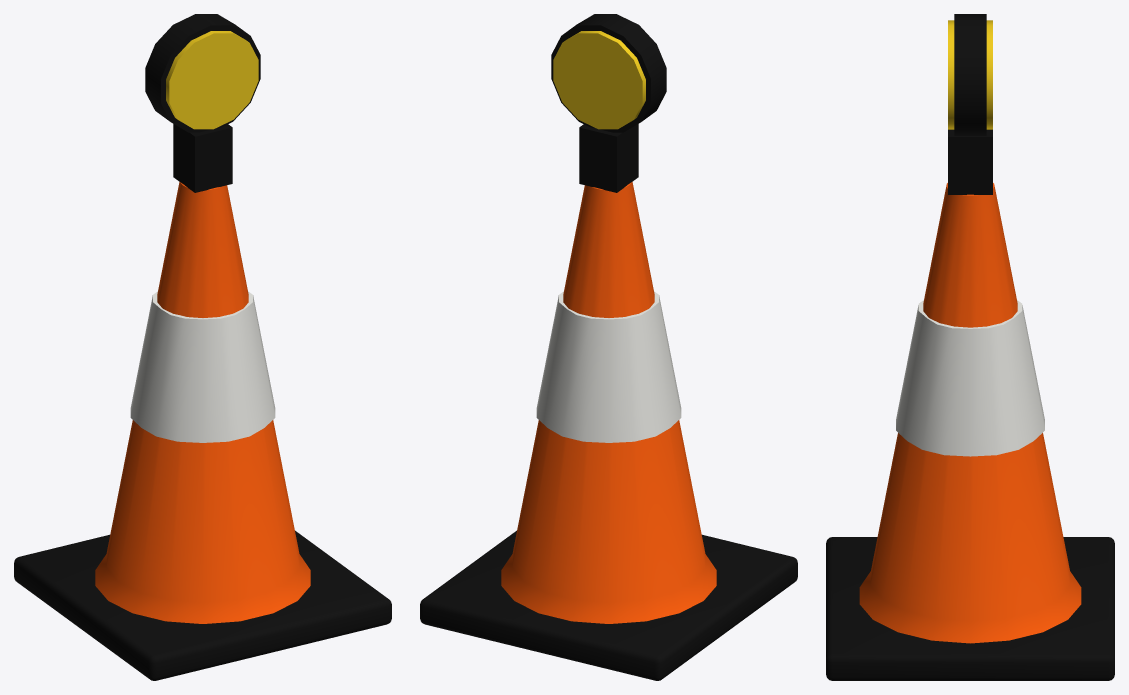
File: plant.traffic.cone_lamp.glb
3 views of the same model, side by side, from view 1: azimuth 30°, elevation 25°; view 2: azimuth 150°, elevation 25°; view 3: azimuth 270°, elevation 25° (orthographic). The views are drawn at different scales.
Parts seen in each view (by area): view 1: main__hivis_orange, main__plastic_black, main__paint_white, main__plastic_yellow; view 2: main__hivis_orange, main__plastic_black, main__paint_white, main__plastic_yellow; view 3: main__hivis_orange, main__plastic_black, main__paint_white, main__plastic_yellow.
Boxes of the visible parts, <box> form: main__hivis_orange: <box>95,182,310,623</box>; main__plastic_black: <box>14,14,391,680</box>; main__paint_white: <box>130,291,275,442</box>; main__plastic_yellow: <box>166,31,258,129</box>; main__hivis_orange: <box>501,182,716,623</box>; main__plastic_black: <box>420,14,797,680</box>; main__paint_white: <box>536,291,681,442</box>; main__plastic_yellow: <box>553,31,645,129</box>; main__hivis_orange: <box>859,183,1081,643</box>; main__plastic_black: <box>826,14,1114,680</box>; main__paint_white: <box>896,300,1044,456</box>; main__plastic_yellow: <box>948,20,992,129</box>.
Size of the model in its own units: 0.45 by 1.03 by 0.45.
